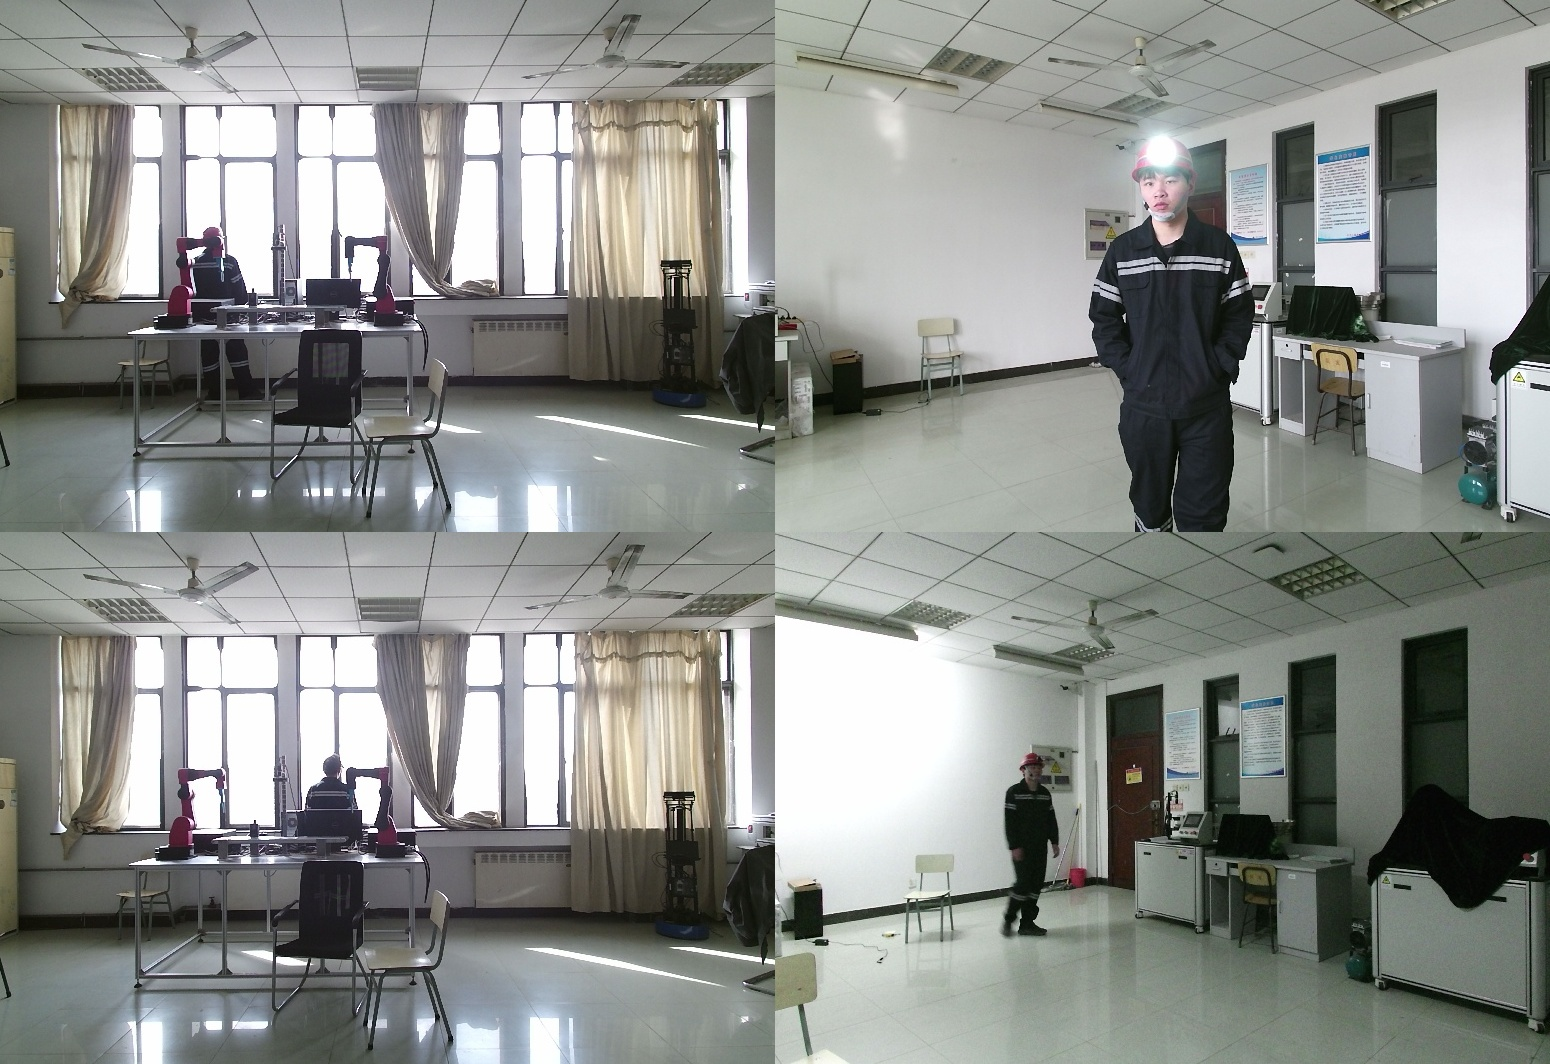person: (1089, 136, 1264, 532), (185, 228, 262, 407), (989, 757, 1056, 949), (299, 754, 364, 841)
